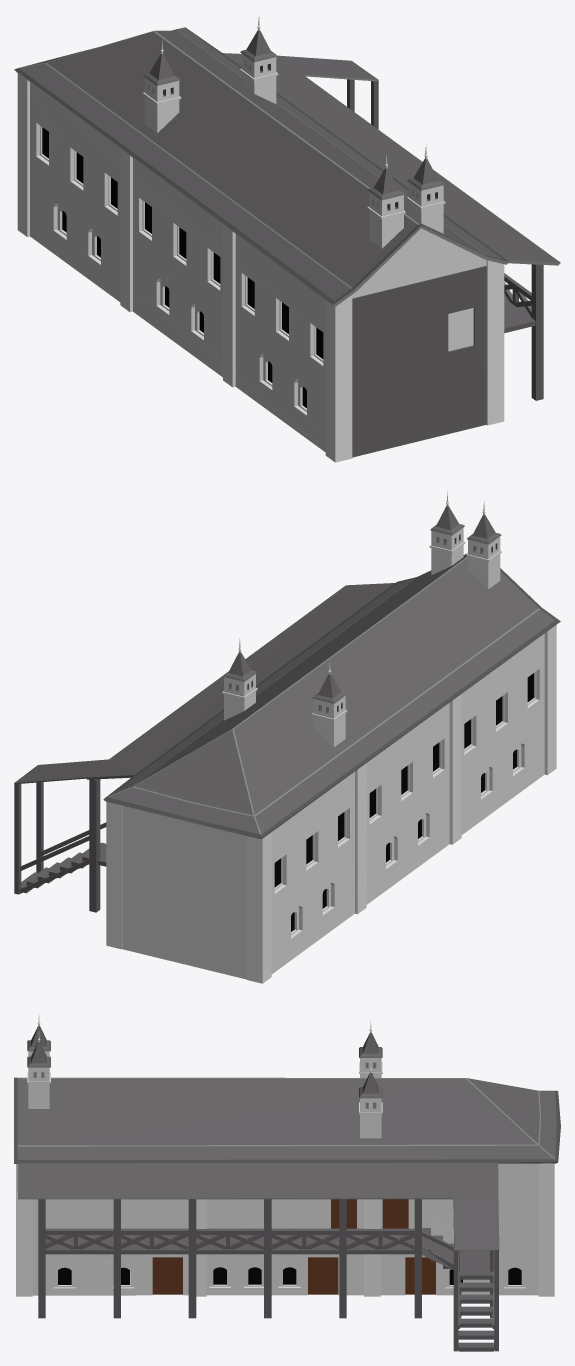
File: cannonyardsouth.gltf
The picture shows the model from 3 angles, top to bottom: view 1: azimuth 30°, elevation 25°; view 2: azimuth 150°, elevation 25°; view 3: azimuth 270°, elevation 25°; orthographic projection. The views are drawn at different scales.
Visible parts, largest first — view 1: Base 2, Cube.005, Cube.001, Cube.004, Cube.007, Cube.002, Cube.012; view 2: Base 2, Cube.005, Cube.001, Cube.004, Cube.007, Cube.012, Cube.010, Cube.014; view 3: Base 2, Cube.005, Cube.007, Cube.002, Cube.008, Cube.010, Cube.004, Cube.003, Cube.001, Cube.012, Cube.017, Cube.009.
Part boxes in pixels (x1,y1,x2,y2): Base 2: (14,27,560,457); Cube.005: (17,73,504,462); Cube.001: (367,143,445,248); Cube.004: (143,16,278,133); Cube.007: (531,264,543,400); Cube.002: (504,293,535,333); Cube.012: (347,79,378,129); Base 2: (14,553,560,979); Cube.005: (106,625,556,983); Cube.001: (429,491,501,589); Cube.004: (222,639,347,747); Cube.007: (89,777,130,912); Cube.012: (14,782,43,894); Cube.010: (21,842,106,893); Cube.014: (20,822,106,870); Base 2: (14,1077,560,1295); Cube.005: (16,1163,554,1296); Cube.007: (38,1199,493,1318); Cube.002: (45,1228,414,1254); Cube.008: (45,1232,414,1249); Cube.010: (458,1270,493,1351); Cube.004: (359,1020,382,1138); Cube.003: (45,1229,414,1234); Cube.001: (27,1015,50,1108); Cube.012: (453,1248,498,1351); Cube.017: (459,1250,489,1270); Cube.009: (422,1228,453,1268).
Bounding box in the file's own units: 20.93 × 18.55 × 38.11.
